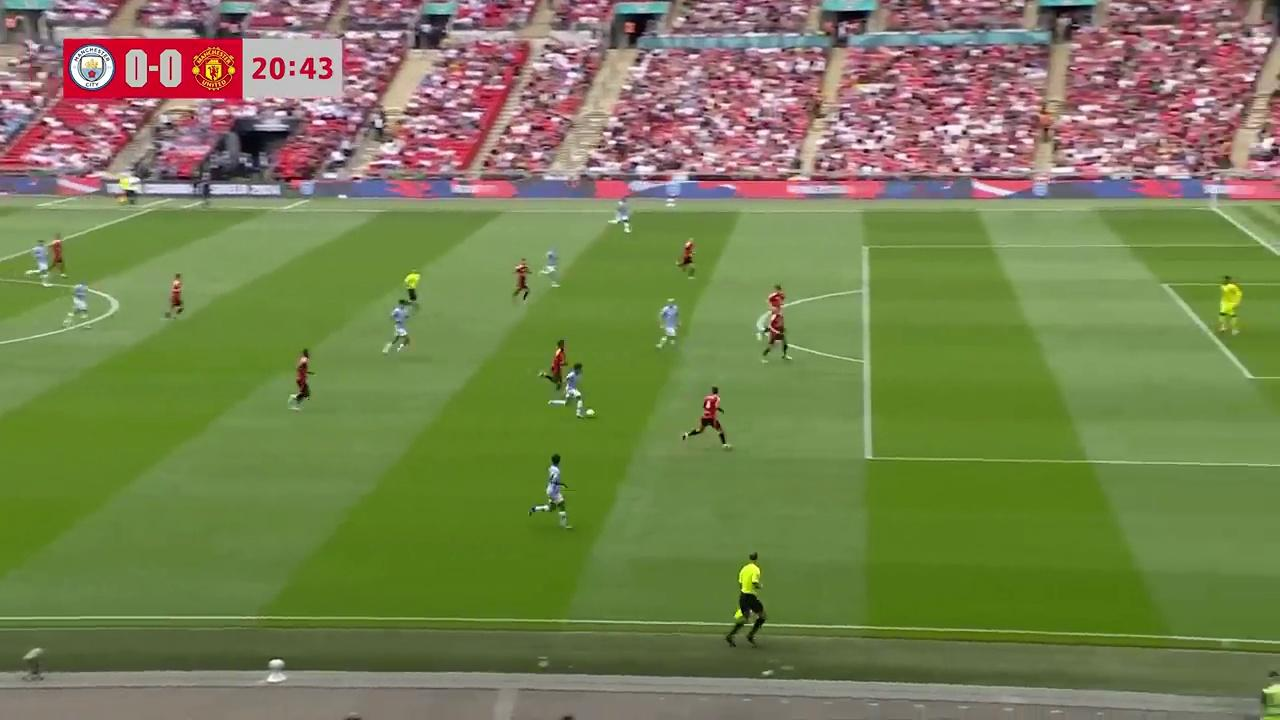ball: (583, 405, 595, 419)
player: (527, 453, 572, 528), (681, 386, 731, 449), (287, 348, 314, 411), (558, 362, 588, 417), (761, 310, 792, 363), (383, 299, 412, 354), (536, 340, 567, 391), (1218, 276, 1242, 334), (656, 297, 680, 348), (63, 279, 90, 323), (161, 273, 184, 320), (28, 240, 50, 285), (765, 284, 787, 328), (607, 196, 632, 233), (511, 257, 531, 302), (675, 238, 696, 278), (48, 235, 66, 276), (541, 246, 559, 285), (668, 182, 682, 210)
referee: (726, 550, 766, 648), (403, 269, 420, 313), (117, 172, 132, 212)
